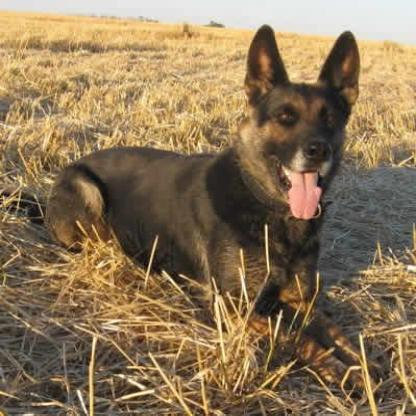German_shepherd: (43, 24, 386, 399)
